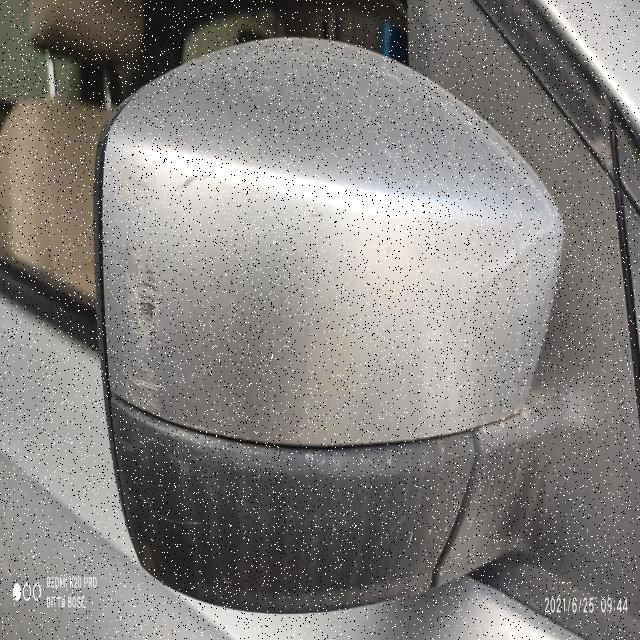Sidemirror-Damage: (86, 23, 570, 637)
